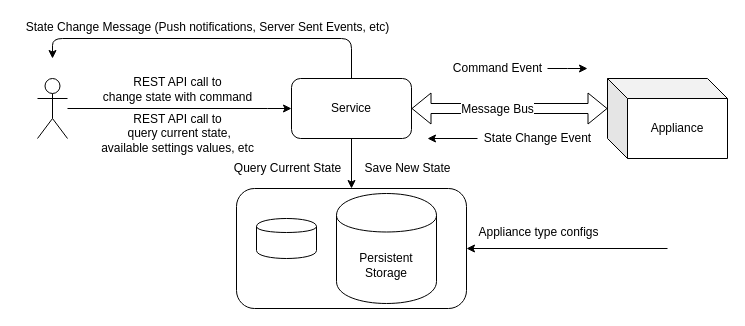
Image size: 745x326. Some labels were removed from this diagram. Here are the shapes that lost their labels. From the top down, the centre of each, then its label:
At [52,108]: "User".
At [286,238]: "Cache".
